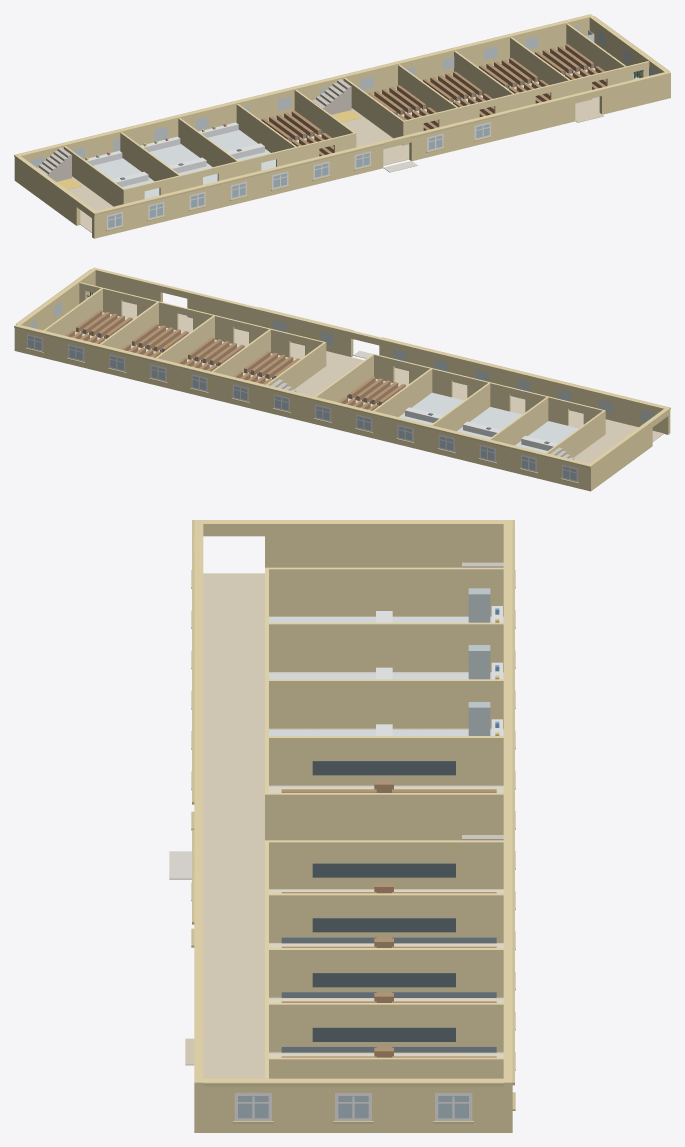
3 views of the same model, one above another, from view 1: azimuth 30°, elevation 25°; view 2: azimuth 150°, elevation 25°; view 3: azimuth 270°, elevation 25° (orthographic). The views are drawn at different scales.
Parts seen in each view (by area): view 1: HUS_T4__F1__E9C977, HUS_T4__F1__F2D17C, HUS_T4__F1__8D5A34, HUS_T4__F1__D3E0E3, HUS_T4__F1__CDB892, HUS_T4__F1__E6ECEE, HUS_T4__F1__C8AD66, HUS_T4__F1__B4C7CD, HUS_T4__F1__BFB3A0, HUS_T4__F1__FBF8F1, HUS_T4__F1__87AABD, HUS_T4__F1__86A9BC (+2 smaller); view 2: HUS_T4__F1__E9C977, HUS_T4__F1__F2D17C, HUS_T4__F1__8D5A34, HUS_T4__F1__CDB892, HUS_T4__F1__D3E0E3, HUS_T4__F1__C8AD66, HUS_T4__F1__FBF8F1, HUS_T4__F1__B4C7CD, HUS_T4__F1__86A9BC, HUS_T4__F1__E6ECEE, HUS_T4__F1__87AABD, HUS_T4__F1__C4A964 (+1 smaller); view 3: HUS_T4__F1__F2D17C, HUS_T4__F1__E9C977, HUS_T4__F1__CDB892, HUS_T4__F1__243036, HUS_T4__F1__C8AD66, HUS_T4__F1__D3E0E3, HUS_T4__F1__E9D9B0, HUS_T4__F1__4A5A66, HUS_T4__F1__8D5A34, HUS_T4__F1__9DB4BC, HUS_T4__F1__FBF8F1, HUS_T4__F1__86A9BC (+2 smaller).
Part boxes in pixels (left/top/right/bottom): HUS_T4__F1__E9C977: left=14, top=14, right=670, bottom=238; HUS_T4__F1__F2D17C: left=64, top=23, right=649, bottom=206; HUS_T4__F1__8D5A34: left=261, top=44, right=606, bottom=156; HUS_T4__F1__D3E0E3: left=93, top=129, right=275, bottom=198; HUS_T4__F1__CDB892: left=67, top=97, right=603, bottom=232; HUS_T4__F1__E6ECEE: left=84, top=122, right=264, bottom=186; HUS_T4__F1__C8AD66: left=14, top=14, right=669, bottom=215; HUS_T4__F1__B4C7CD: left=30, top=26, right=655, bottom=167; HUS_T4__F1__BFB3A0: left=37, top=79, right=351, bottom=181; HUS_T4__F1__FBF8F1: left=106, top=122, right=490, bottom=229; HUS_T4__F1__87AABD: left=149, top=135, right=442, bottom=217; HUS_T4__F1__86A9BC: left=108, top=124, right=489, bottom=227; HUS_T4__F1__E9C977: left=14, top=267, right=670, bottom=491; HUS_T4__F1__F2D17C: left=43, top=282, right=605, bottom=457; HUS_T4__F1__8D5A34: left=65, top=310, right=405, bottom=410; HUS_T4__F1__CDB892: left=122, top=301, right=664, bottom=463; HUS_T4__F1__D3E0E3: left=399, top=392, right=578, bottom=452; HUS_T4__F1__C8AD66: left=14, top=269, right=670, bottom=467; HUS_T4__F1__FBF8F1: left=27, top=334, right=578, bottom=482; HUS_T4__F1__B4C7CD: left=29, top=283, right=653, bottom=421; HUS_T4__F1__86A9BC: left=28, top=336, right=576, bottom=480; HUS_T4__F1__E6ECEE: left=405, top=407, right=557, bottom=450; HUS_T4__F1__87AABD: left=110, top=356, right=535, bottom=470; HUS_T4__F1__C4A964: left=25, top=348, right=578, bottom=483; HUS_T4__F1__F2D17C: left=265, top=567, right=503, bottom=1078; HUS_T4__F1__E9C977: left=194, top=520, right=512, bottom=1132; HUS_T4__F1__CDB892: left=185, top=573, right=503, bottom=1078; HUS_T4__F1__243036: left=312, top=761, right=455, bottom=1041; HUS_T4__F1__C8AD66: left=192, top=520, right=514, bottom=1086; HUS_T4__F1__D3E0E3: left=269, top=616, right=503, bottom=785; HUS_T4__F1__E9D9B0: left=269, top=786, right=503, bottom=1057; HUS_T4__F1__4A5A66: left=281, top=937, right=496, bottom=1052; HUS_T4__F1__8D5A34: left=281, top=781, right=496, bottom=1057; HUS_T4__F1__9DB4BC: left=468, top=588, right=490, bottom=735; HUS_T4__F1__FBF8F1: left=234, top=1092, right=472, bottom=1120; HUS_T4__F1__86A9BC: left=238, top=1096, right=368, bottom=1118.
Bounding box in the file's own units: 95.9 × 4 × 24.9.
